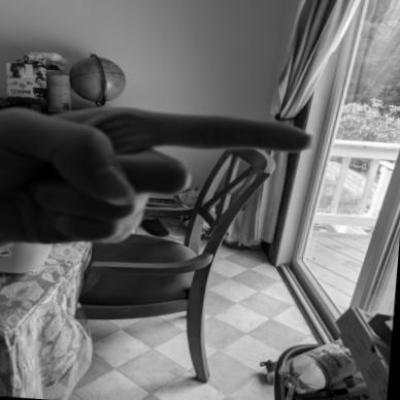hand: (0, 88, 329, 278)
